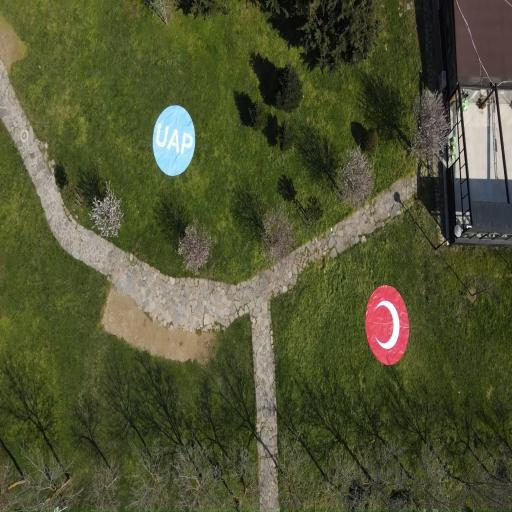UAP: (365, 285, 409, 365)
car: (153, 105, 195, 175)
